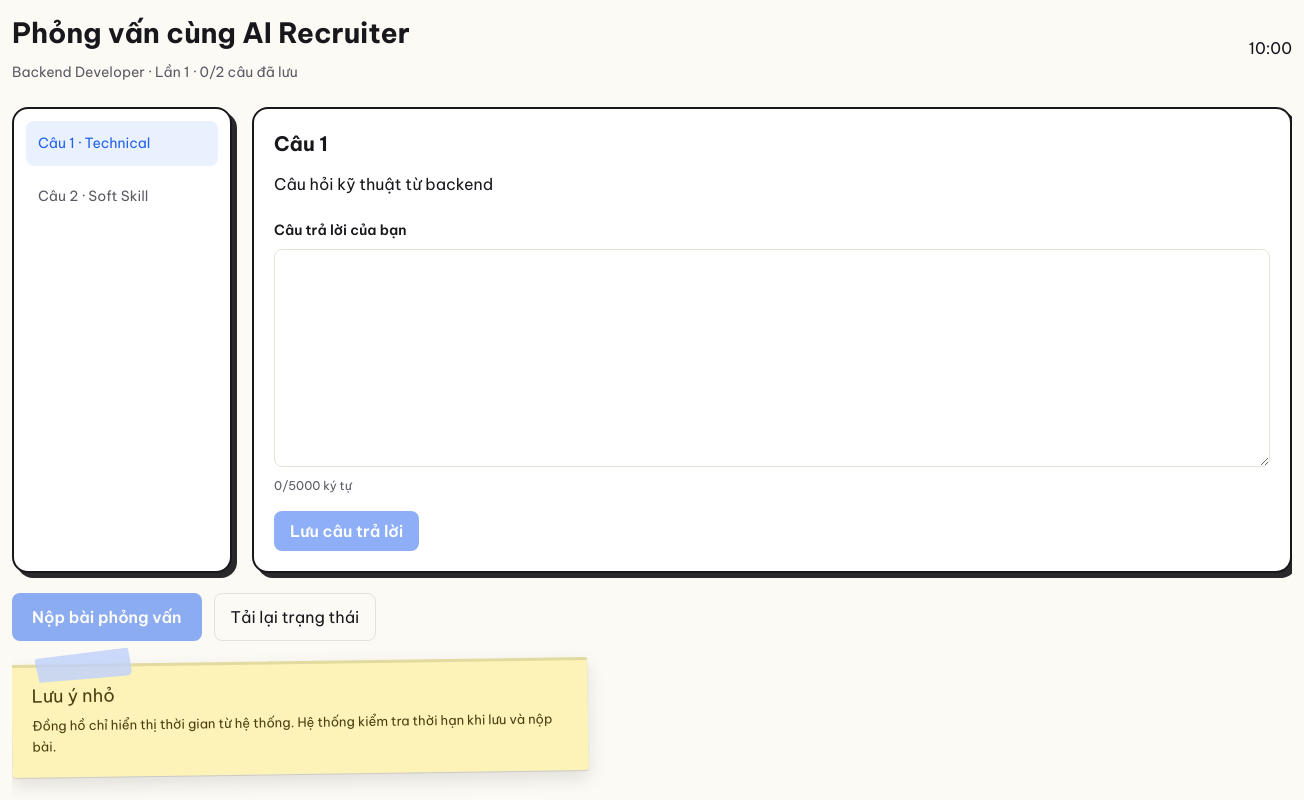
it: Nest recruitment integration › failed answer remains draft and error is visible
Expected: the text "Câu hỏi kỹ thuật từ backend" is shown, [274,174,493,194]
In the text box labelled "Câu trả lời của bạn": (772, 358) [274,249,1270,467], type "Không được mất bản nháp"
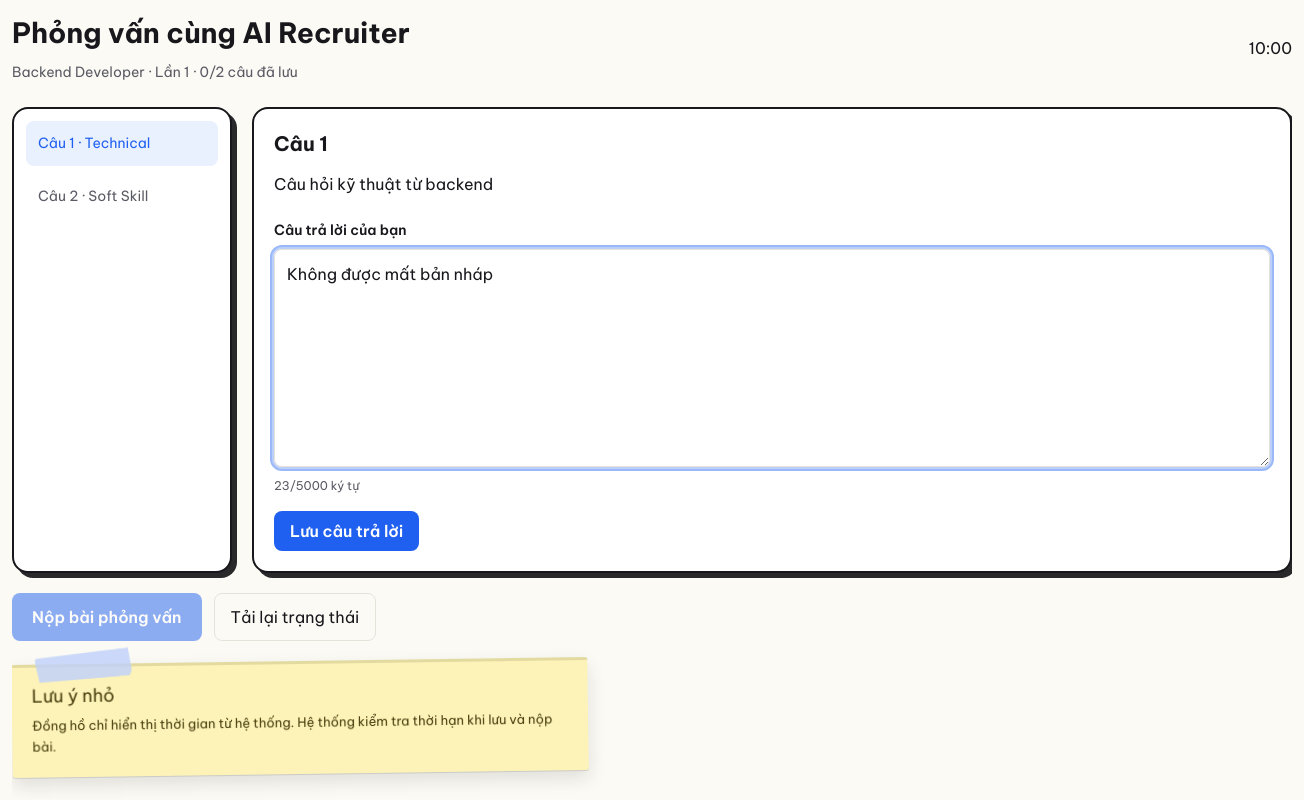
Click the button "Lưu câu trả lời": (347, 531) [274,511,419,551]
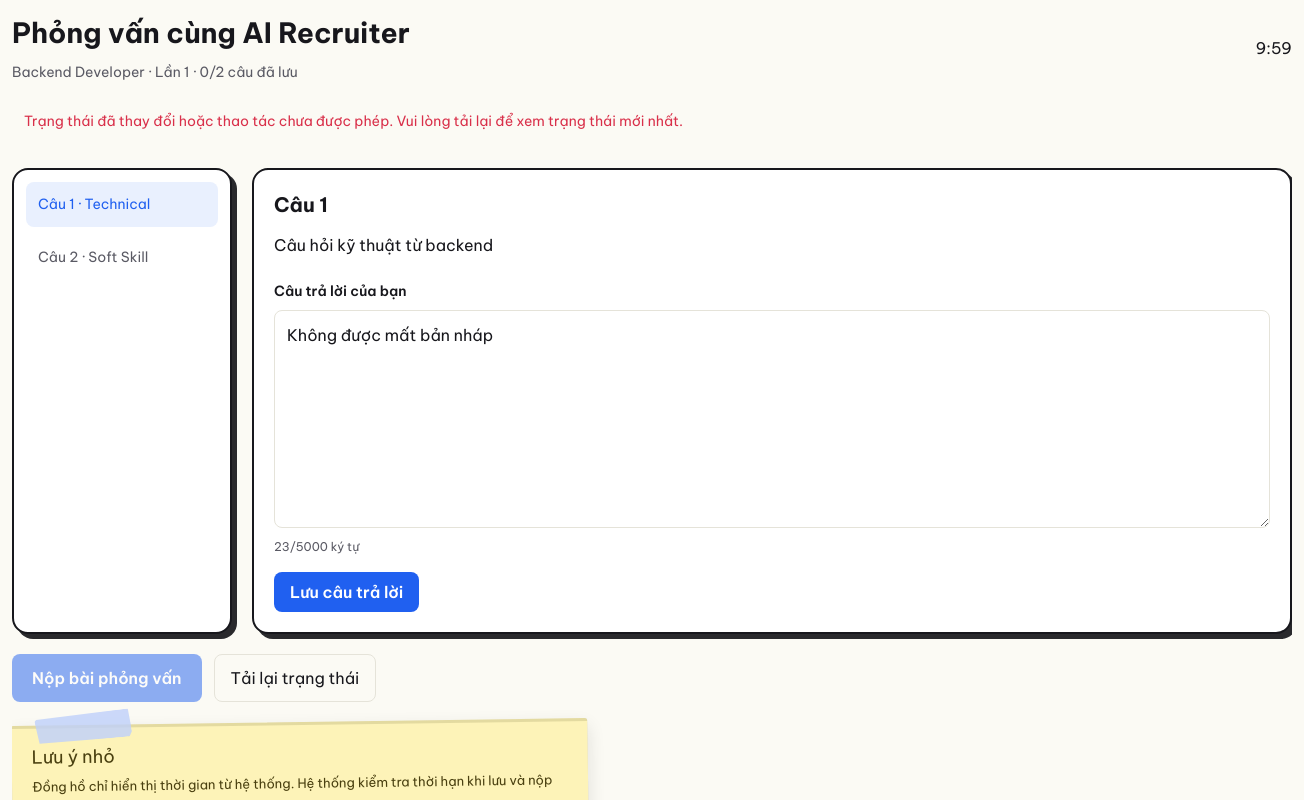
Expected: the message shows "Trạng thái đã thay đổi", [24,112,683,130]
